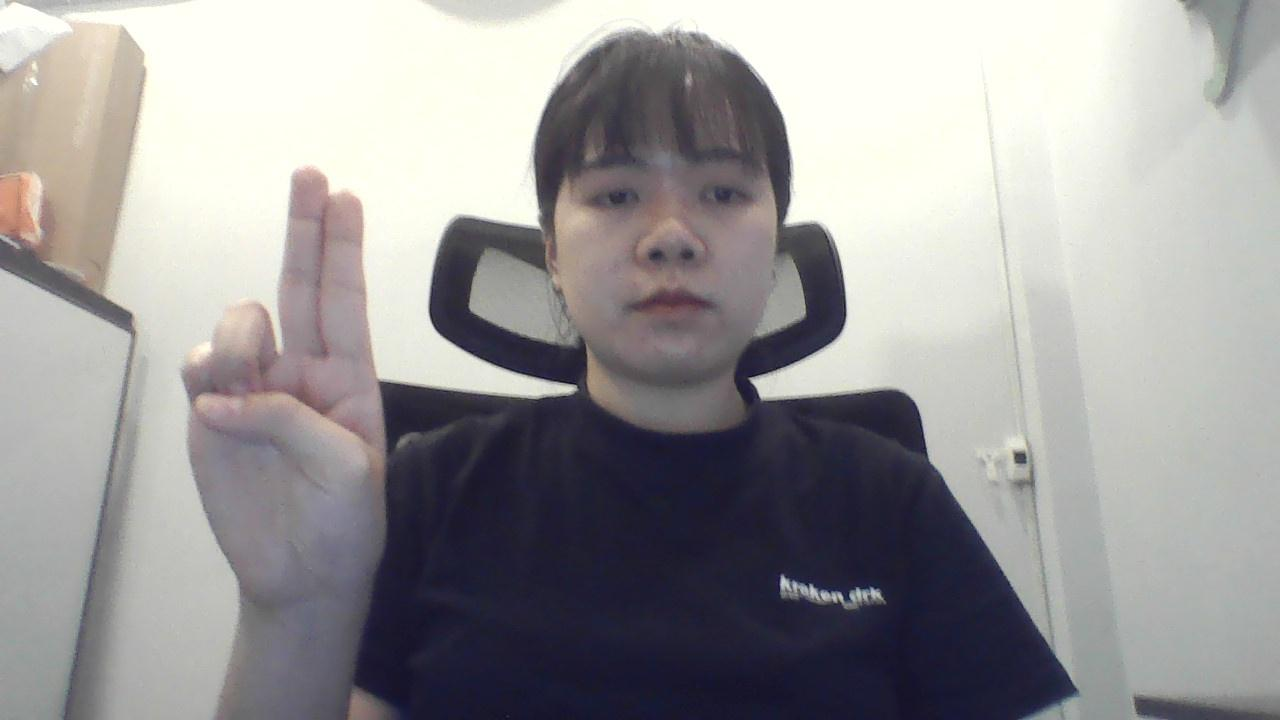U: (142, 155, 412, 675)
